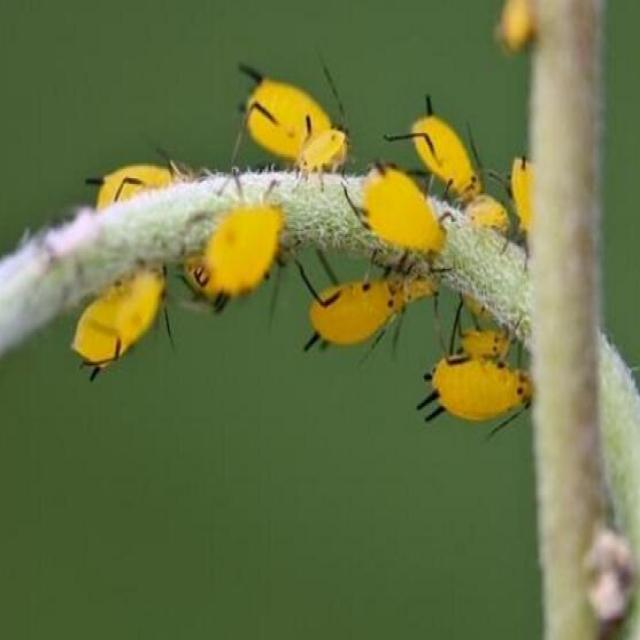Aphids: (207, 62, 357, 193), (419, 317, 544, 456), (304, 226, 416, 367), (338, 157, 457, 270), (381, 92, 493, 207), (76, 264, 170, 383), (184, 201, 280, 316)
